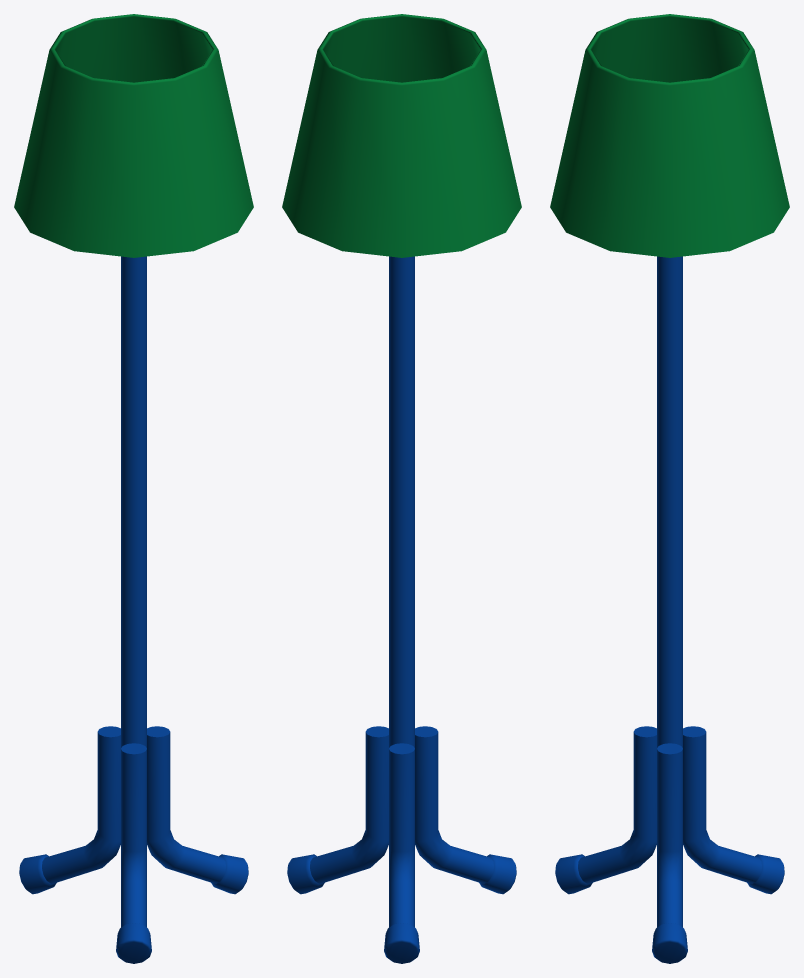
The model's file is lamp2.fbx.
3 views of the same model, side by side, from view 1: azimuth 30°, elevation 25°; view 2: azimuth 150°, elevation 25°; view 3: azimuth 270°, elevation 25° (orthographic).
Visible parts, largest first — view 1: lamp2; view 2: lamp2; view 3: lamp2.
Part boxes in pixels (x1,y1,x2,y2): lamp2: (14,14,253,963); lamp2: (282,14,521,963); lamp2: (550,14,789,963).
Bounding box in the file's own units: 43.06 × 166 × 41.63.
